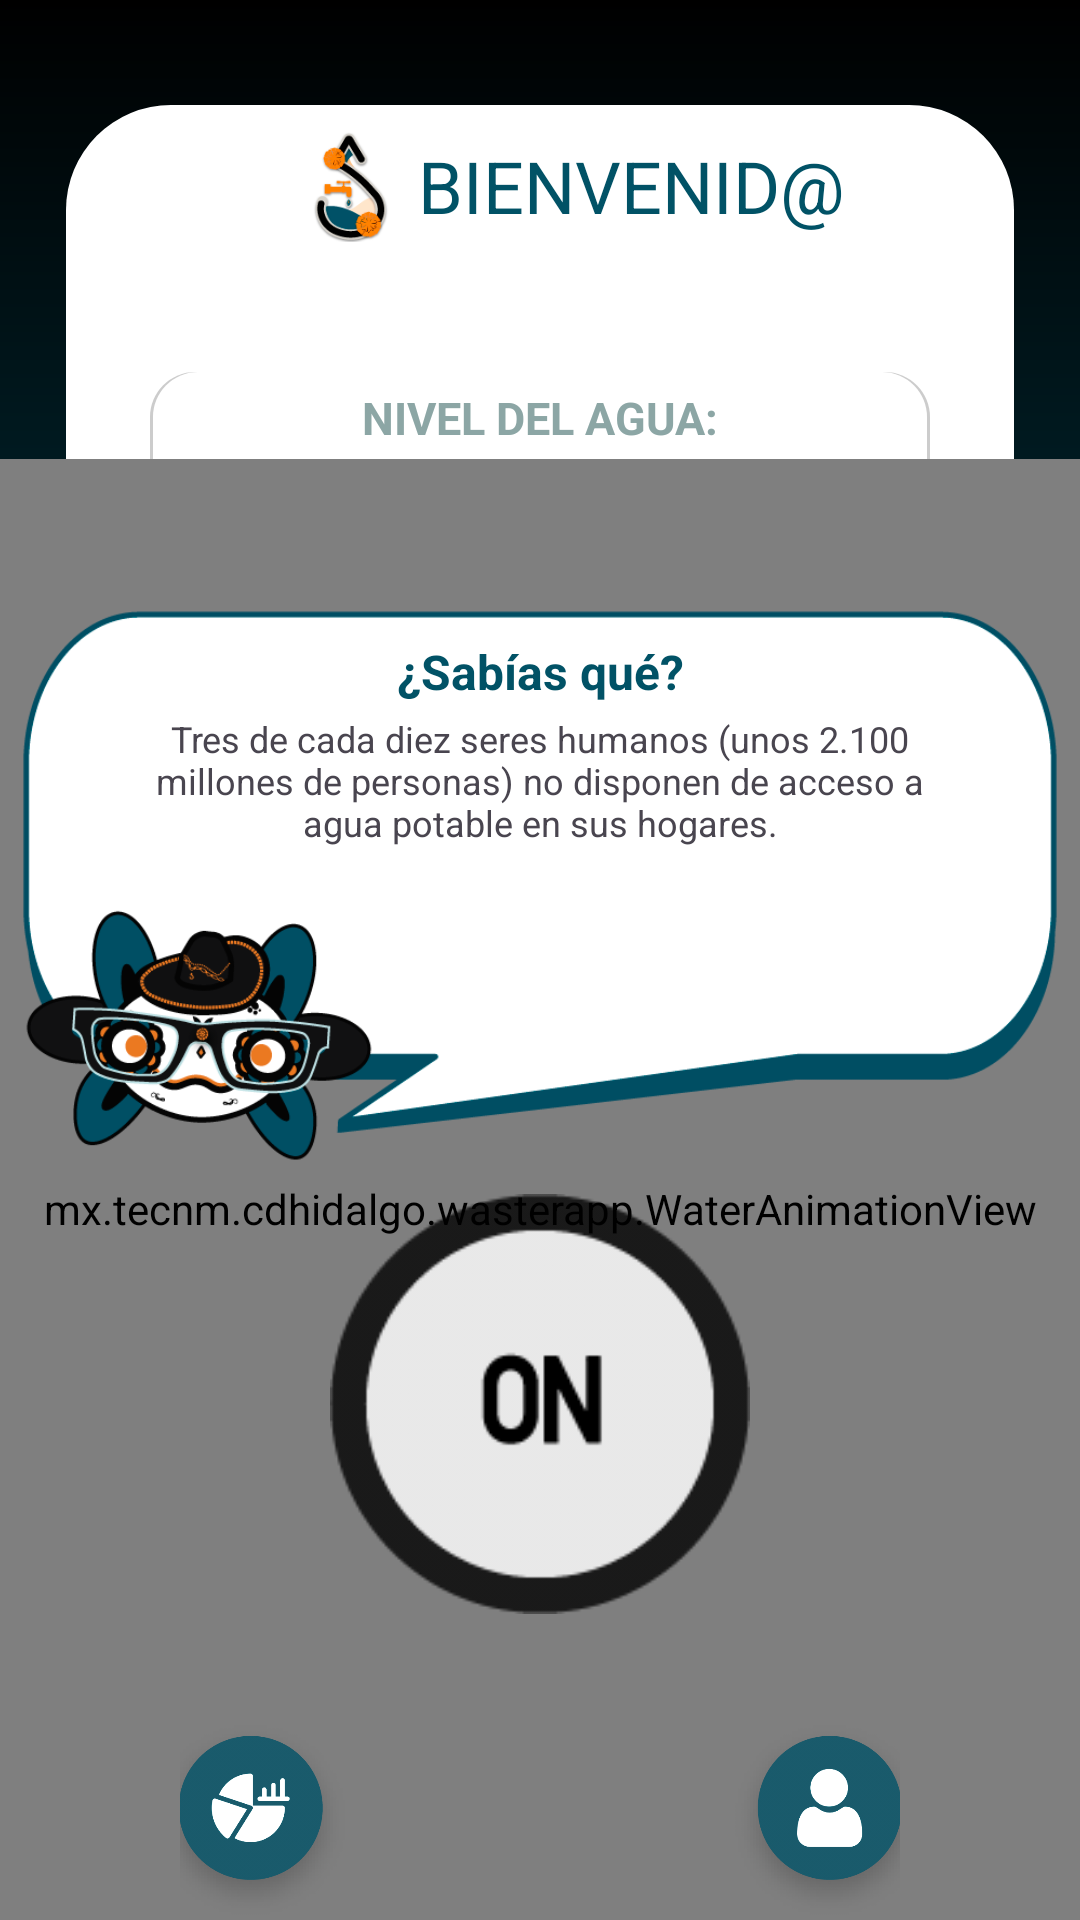

Icons on this 1080px x 1920px Android screen, each with its box as bbox=[x1, y1, x2, y2]:
grafico off: bbox=[180, 1736, 323, 1880]
usuario off: bbox=[758, 1736, 900, 1880]
